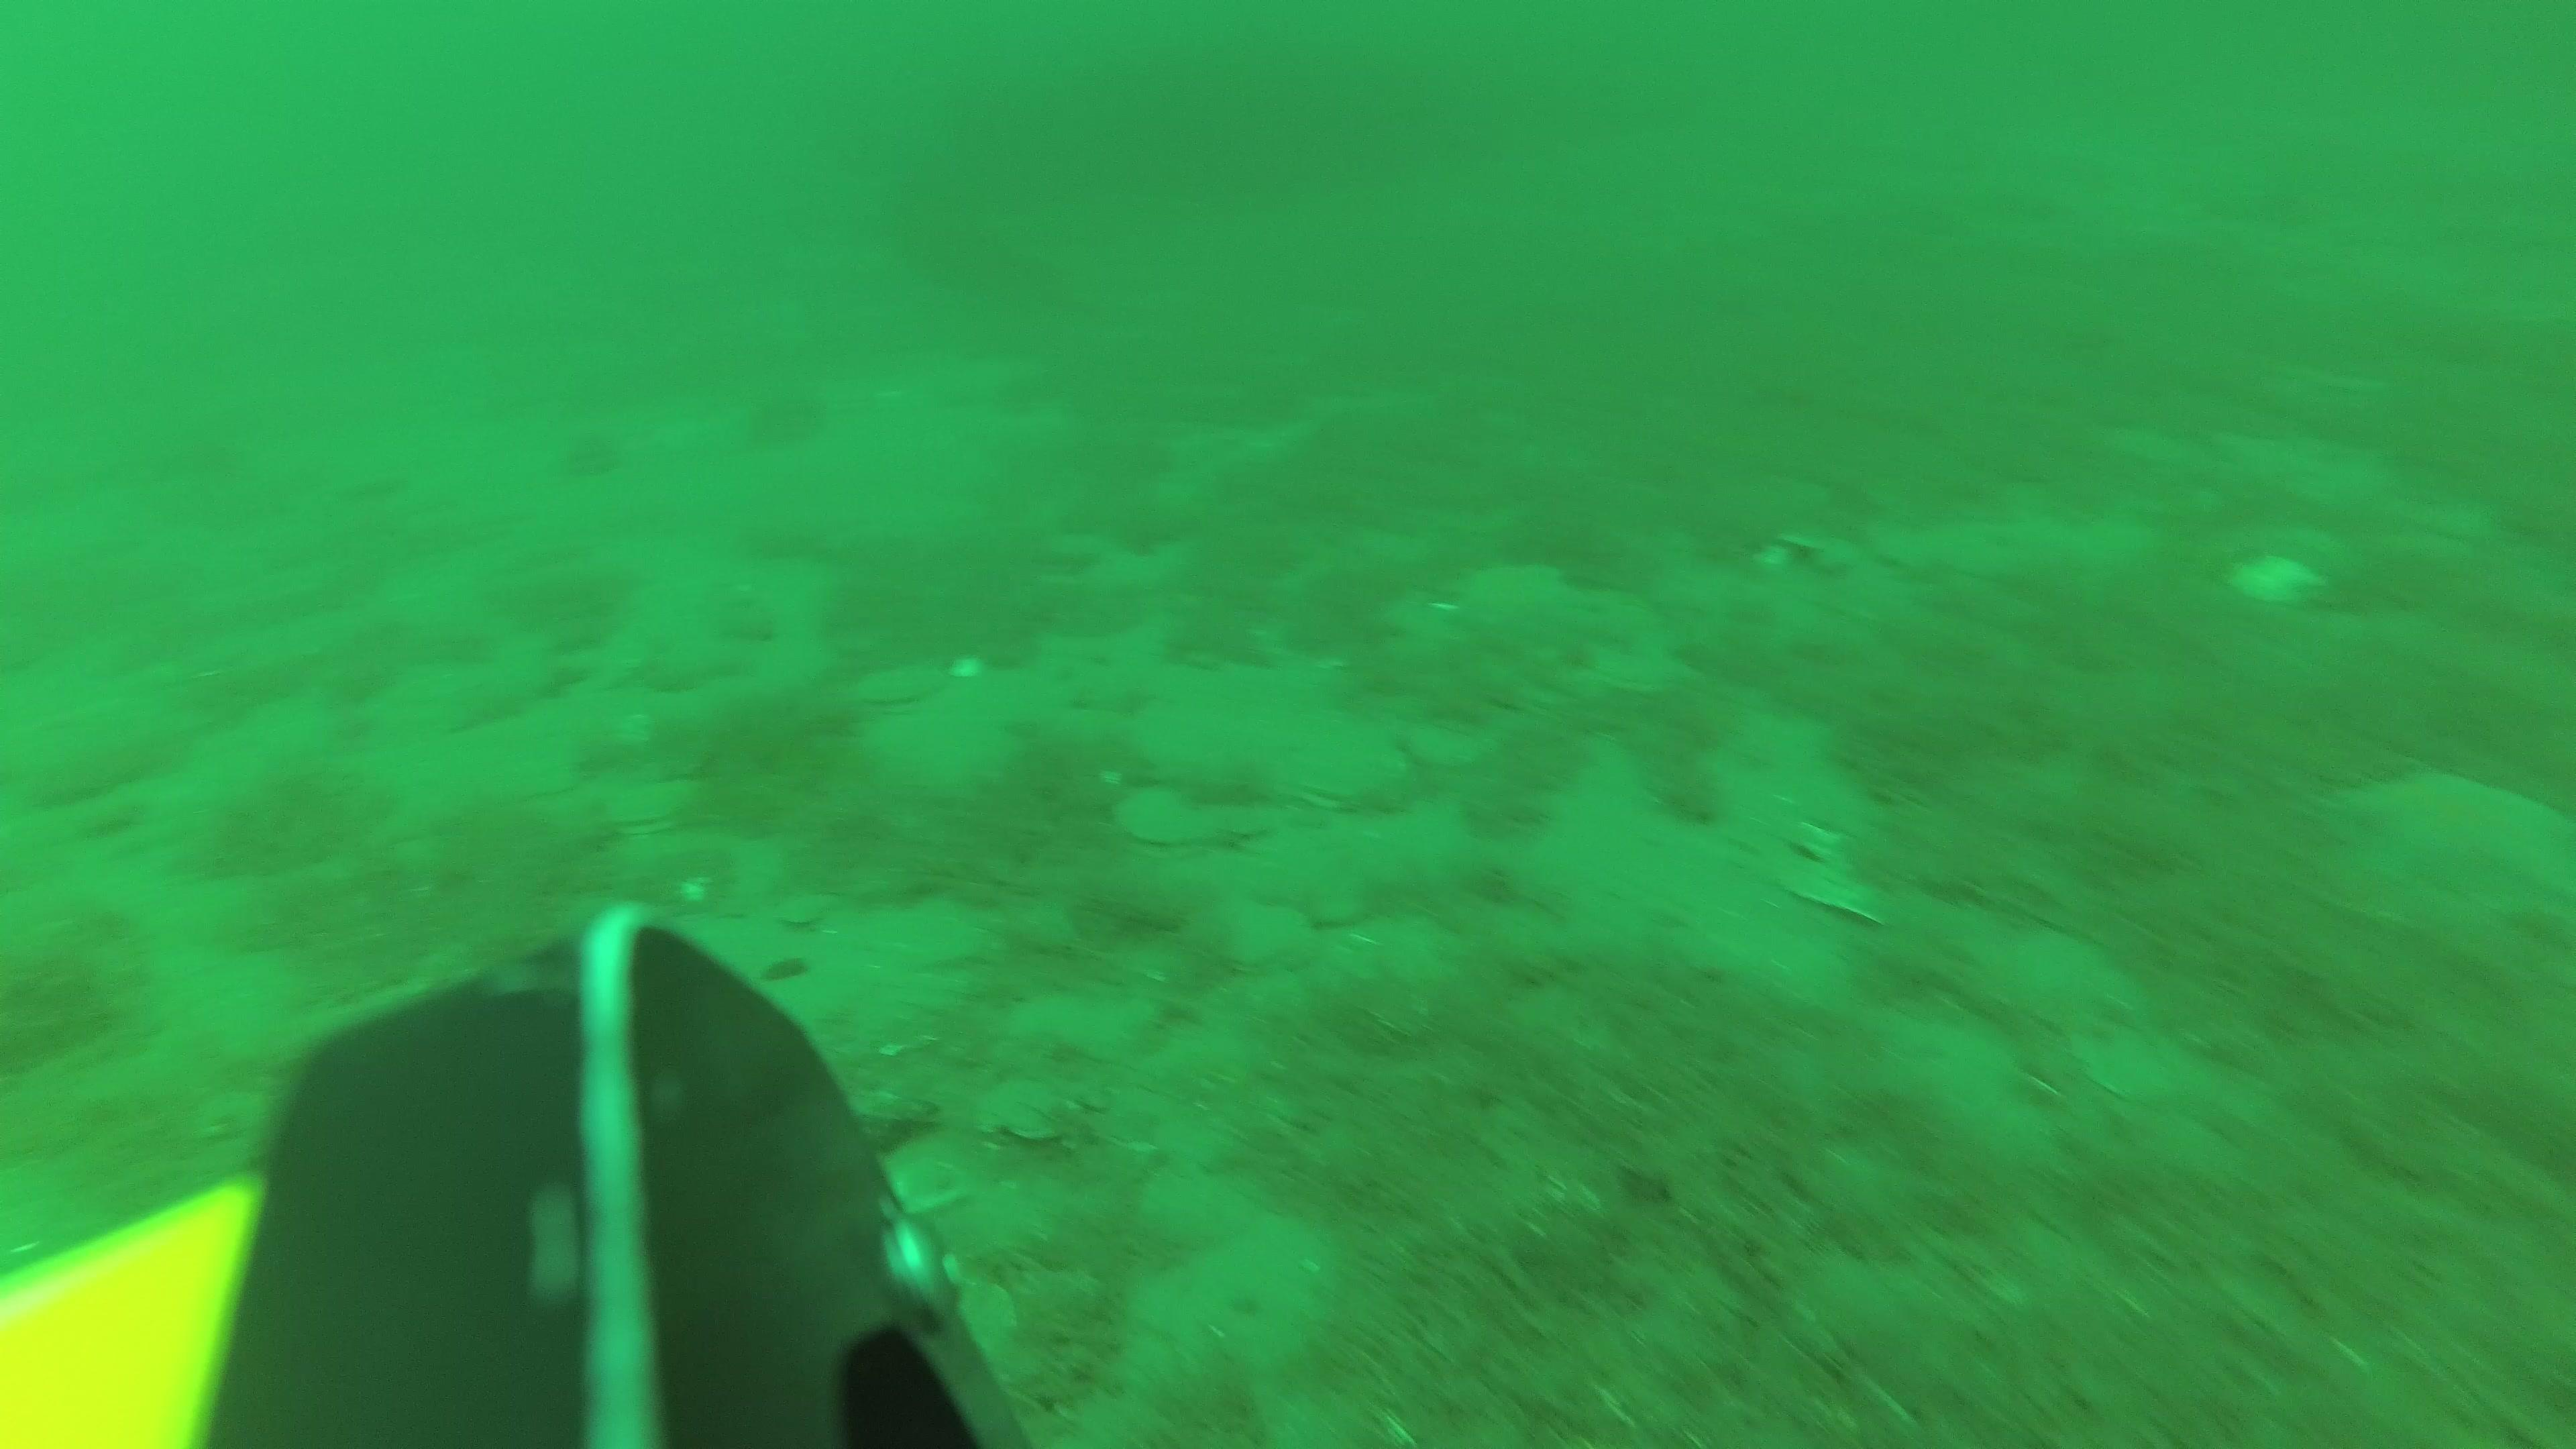scallop: (1116, 782, 1233, 855), (1292, 736, 1405, 809), (1214, 899, 1315, 977), (609, 780, 699, 837), (860, 662, 945, 711), (780, 888, 830, 929)
starfish: (2332, 770, 2576, 916), (1454, 564, 1591, 646)
